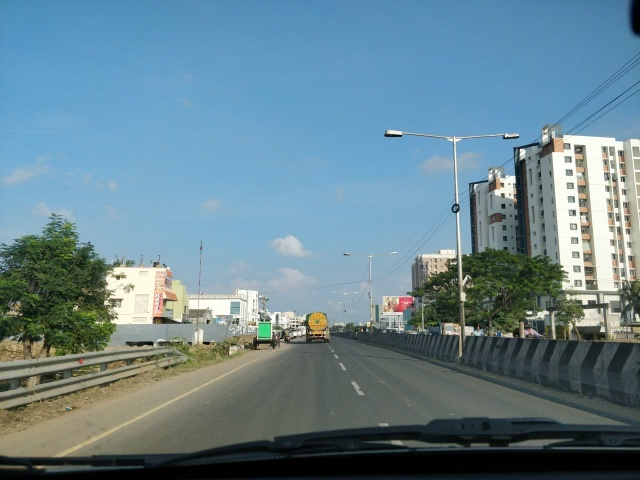truck: (304, 312, 330, 345)
